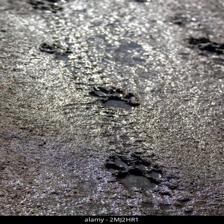coyote: (101, 152, 167, 195)
